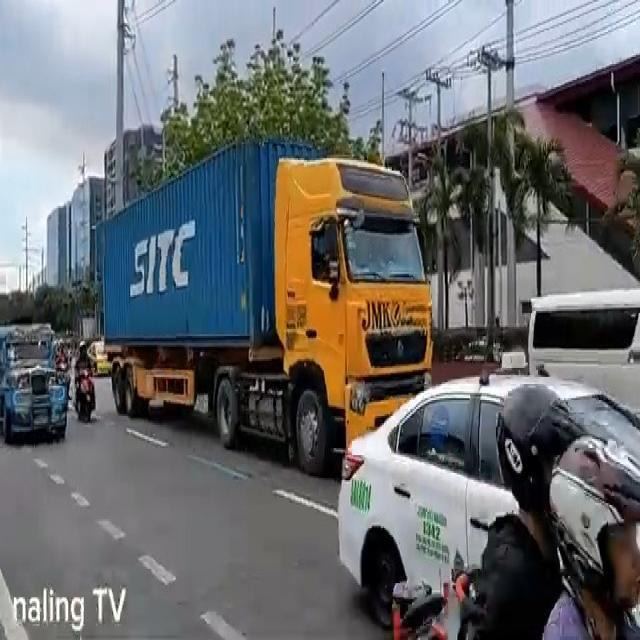car: (342, 370, 640, 632)
jeepney: (0, 322, 69, 446)
motorcycle: (74, 340, 96, 426)
truck: (100, 138, 430, 472)
